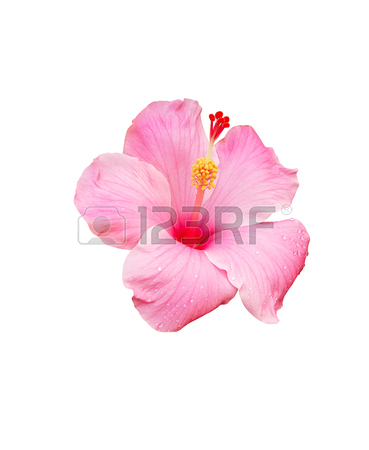Hibiscus: (72, 93, 337, 339)
